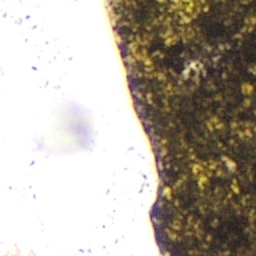cement_matrix: (113, 0, 255, 255)
gravel_crushed_stones: (0, 0, 165, 255)
